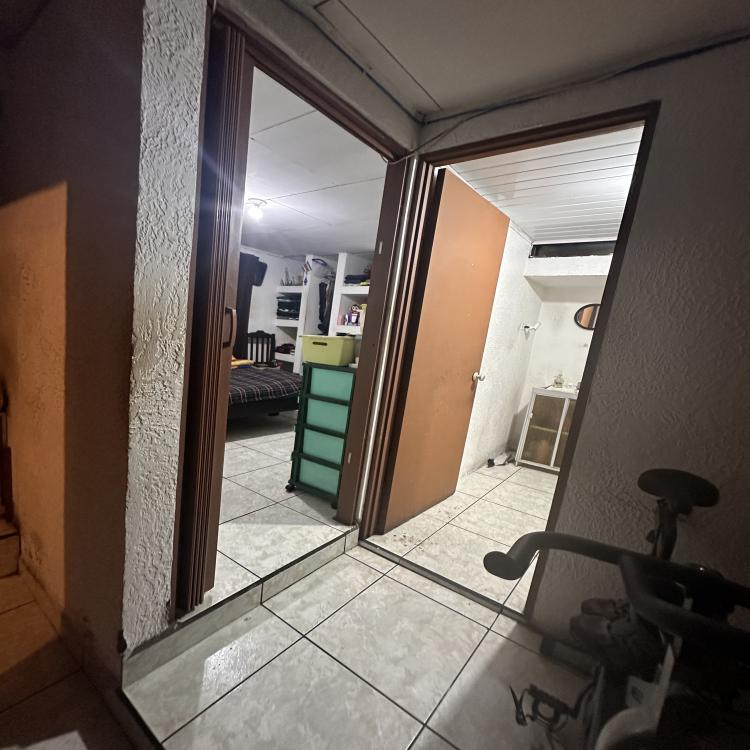OpenDoor: (357, 104, 659, 608), (206, 9, 378, 570)
